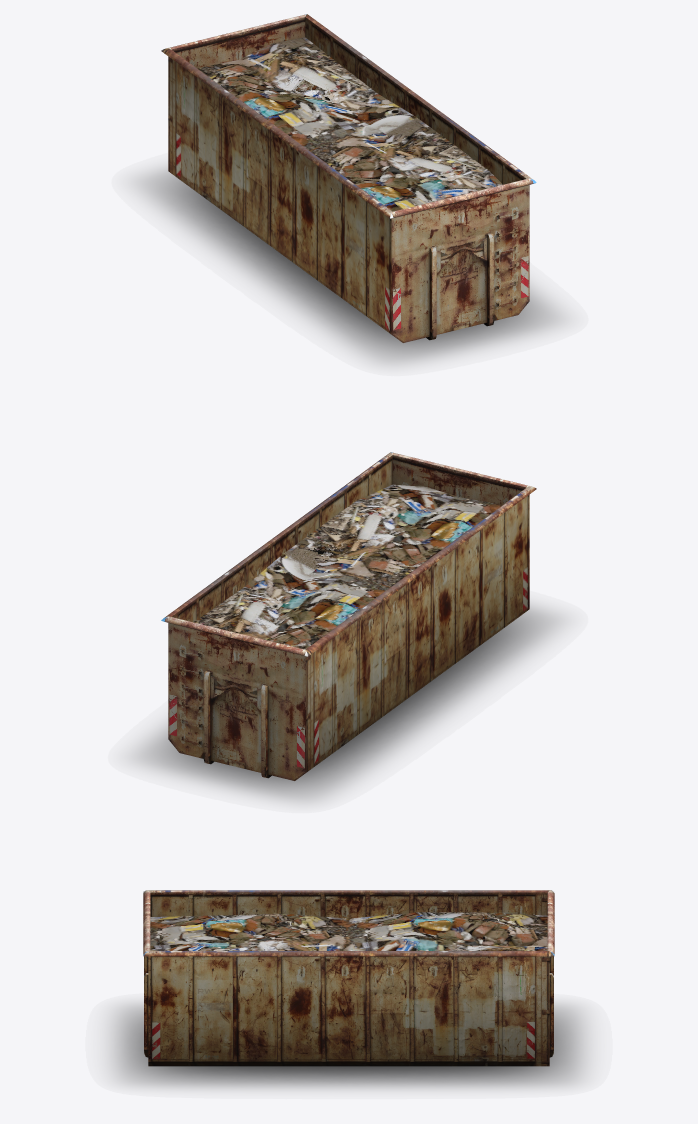
Rendered from Garbage_Container_Rusty.gltf.
3 views of the same model, one above another, from view 1: azimuth 30°, elevation 25°; view 2: azimuth 150°, elevation 25°; view 3: azimuth 270°, elevation 25° (orthographic). The views are drawn at different scales.
Parts seen in each view (by area): view 1: Garbage_Container_Rusty; view 2: Garbage_Container_Rusty; view 3: Garbage_Container_Rusty.
Part boxes in pixels (x1,y1,x2,y2): Garbage_Container_Rusty: [140, 14, 559, 362]; Garbage_Container_Rusty: [137, 452, 558, 800]; Garbage_Container_Rusty: [113, 890, 584, 1088].
Bounding box in the file's own units: 5.07 × 2.25 × 11.05.
